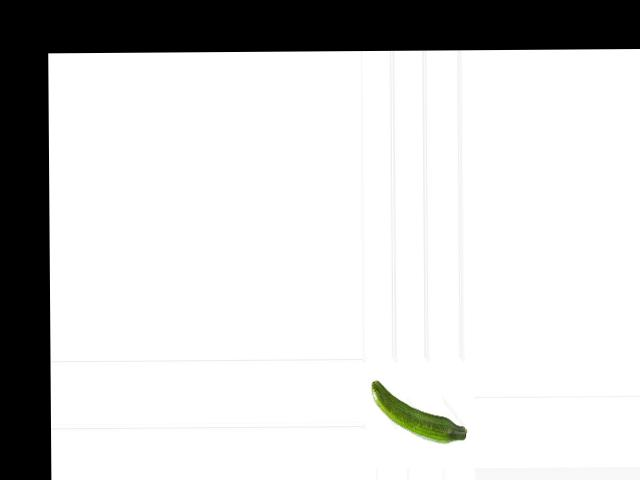cucumber: (371, 379, 468, 443)
